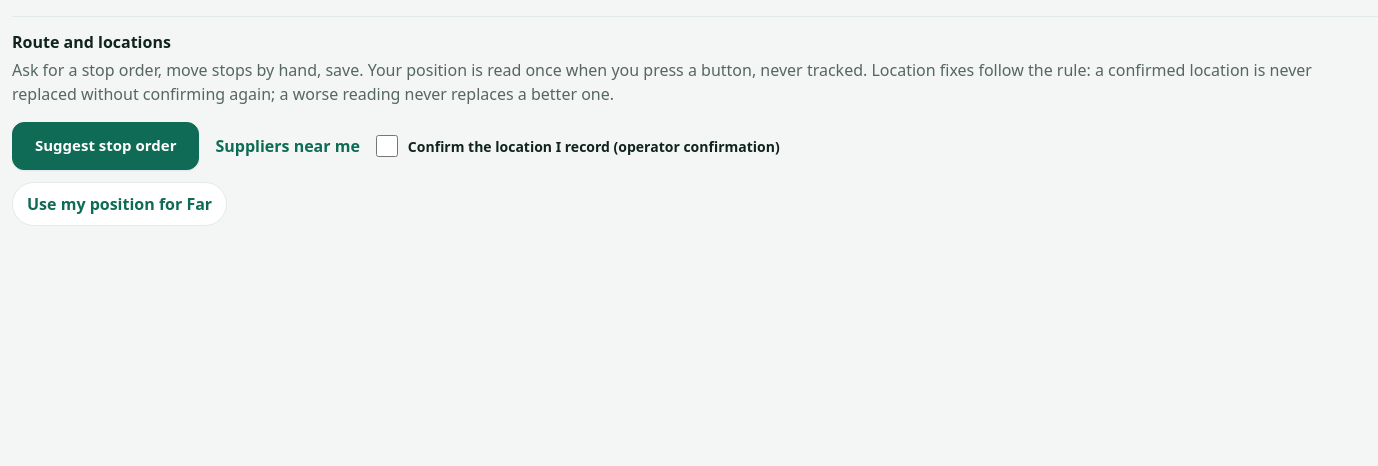
names Google Maps when it produced the order and says the first service was skipped
This screenshot has width=1378, height=466.
Click the button "Suggest stop order" at (106,146), box [12,122,200,170]
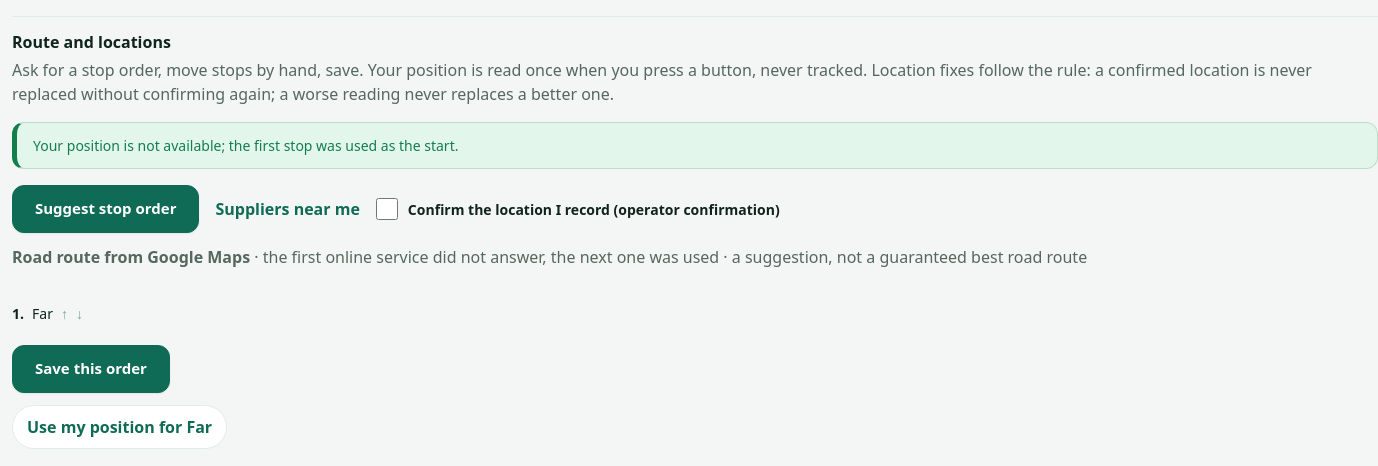
Now the text "Road route from Google Maps" is shown, box [12,246,250,268]
Now the text "the first online service did not answer, the next one was used" is shown, box [250,246,719,268]
